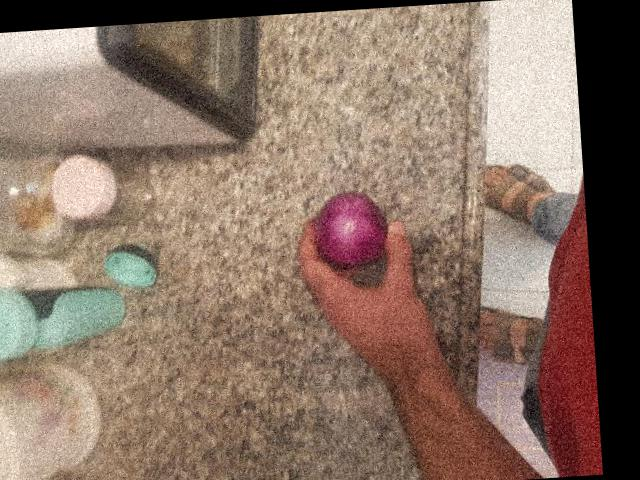onion: (120, 49, 192, 136)
